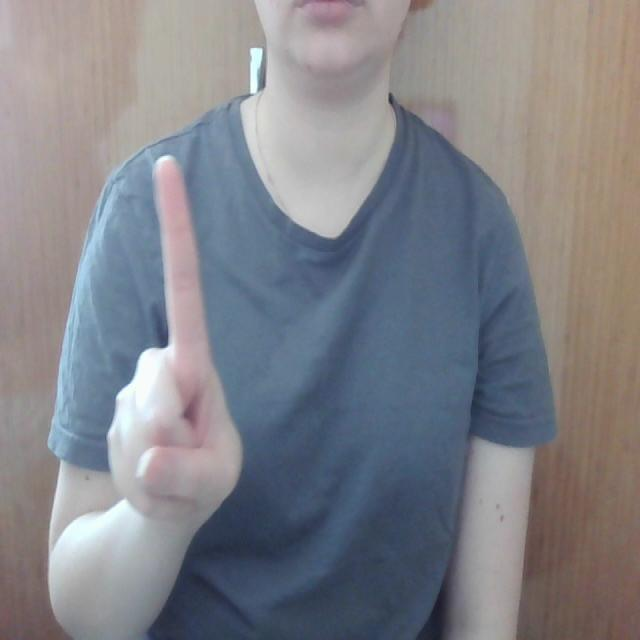Hayir: (101, 136, 257, 539)
